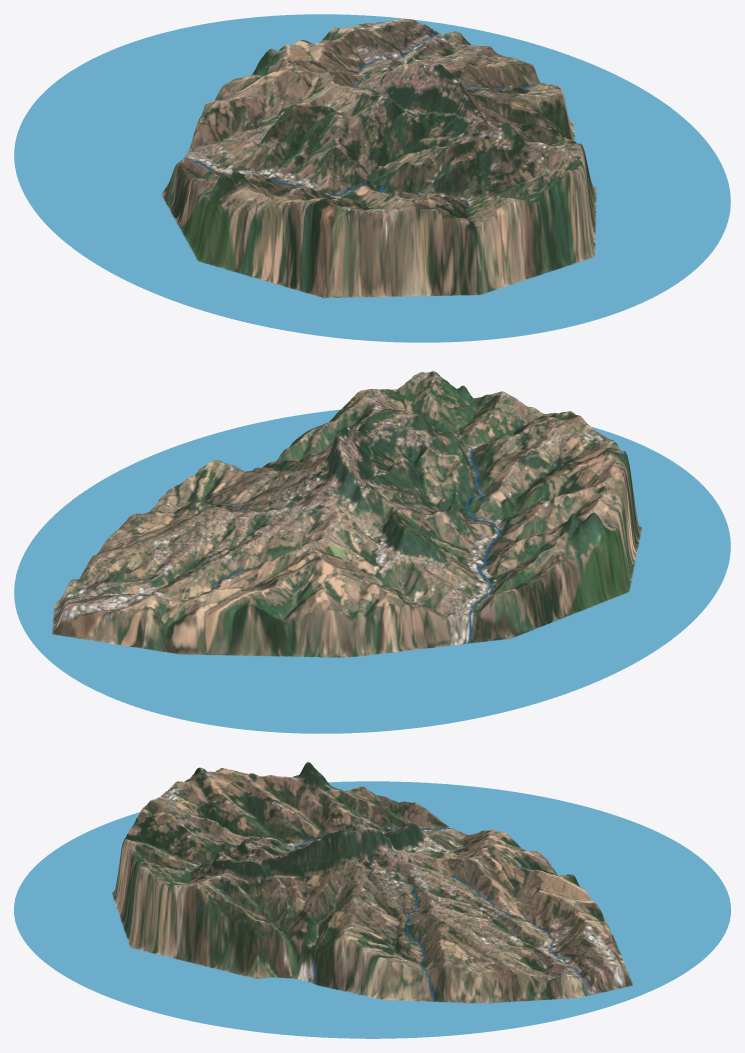
The model's file is SMR-previa-terrain.glb.
3 renders of one model, top to bottom at view 1: azimuth 30°, elevation 25°; view 2: azimuth 150°, elevation 25°; view 3: azimuth 270°, elevation 25°, orthographic. The views are drawn at different scales.
Parts seen in each view (by area): view 1: San Marino; view 2: San Marino; view 3: San Marino.
Part boxes in pixels (box(x1,y1,x2,y2)): San Marino: box(14, 14, 730, 342); San Marino: box(14, 371, 730, 733); San Marino: box(14, 762, 730, 1038).
Size of the model in its own units: 2.05 by 0.3791 by 2.42.
Materials: 1 (1 with a texture image).
